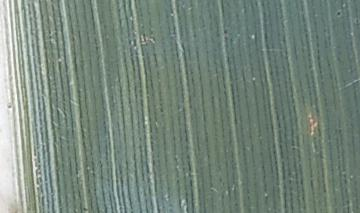tarspot: (81, 205, 91, 212), (5, 102, 13, 110), (222, 27, 230, 35), (334, 10, 342, 17), (132, 37, 137, 48), (46, 34, 53, 40)
